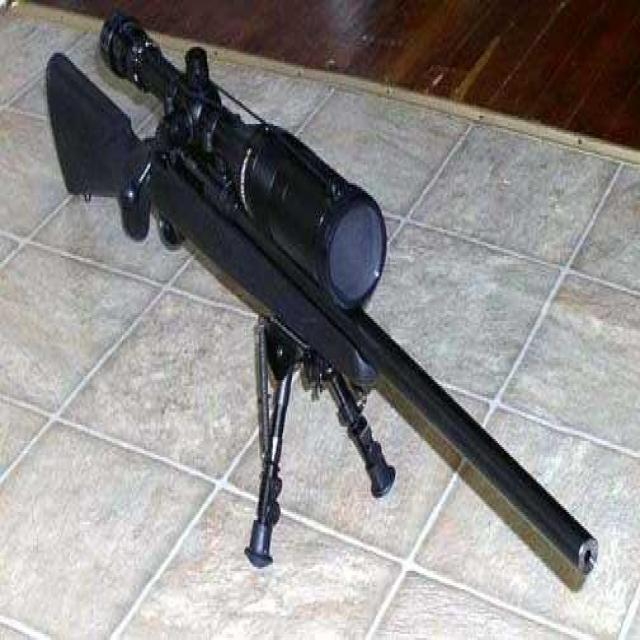heavyweapon: (23, 40, 607, 601)
